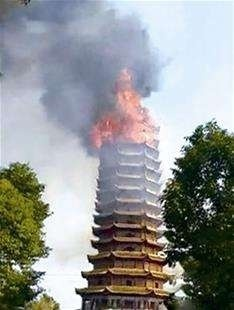fire: (89, 70, 160, 150)
